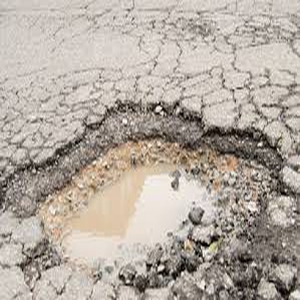pothole: (2, 102, 287, 284)
